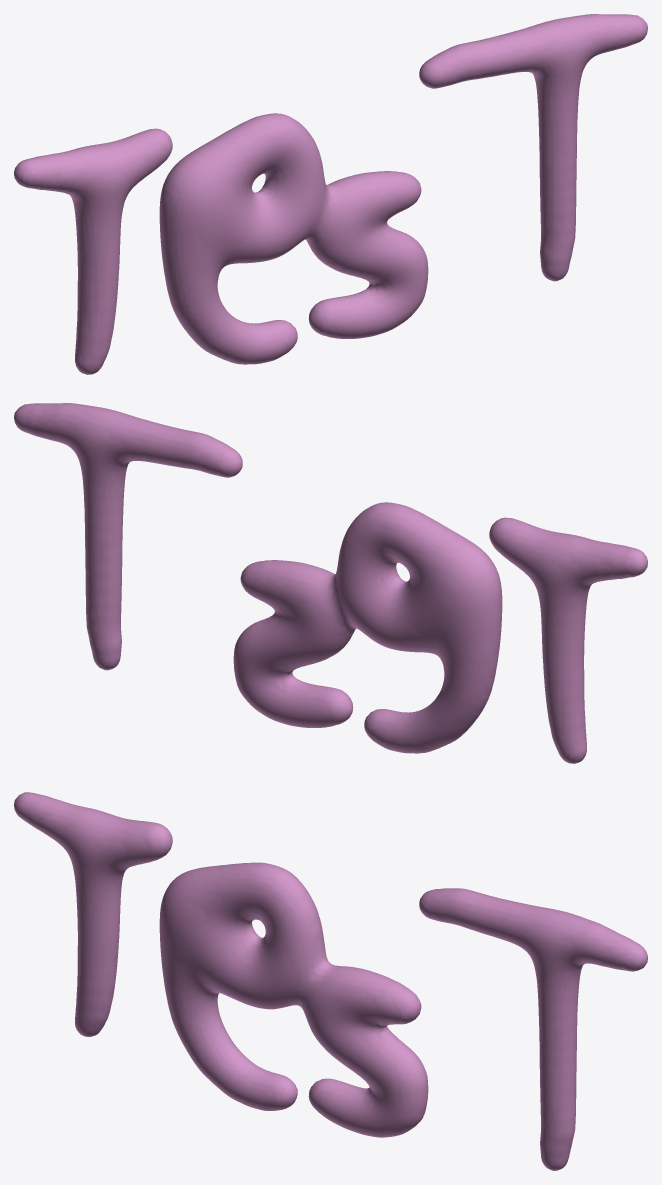
The picture shows the model from 3 angles, top to bottom: view 1: azimuth 30°, elevation 25°; view 2: azimuth 150°, elevation 25°; view 3: azimuth 330°, elevation 25°; orthographic projection.
Parts seen in each view (by area): view 1: Metaball; view 2: Metaball; view 3: Metaball.
Boxes of the visible parts, x1,y1,x2,y2 form: Metaball: (14,14,647,374); Metaball: (14,403,647,763); Metaball: (14,792,647,1170).
Bounding box in the file's own units: 860 × 348 × 81.43.
